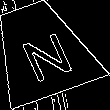N_N: (9, 19, 73, 81)
